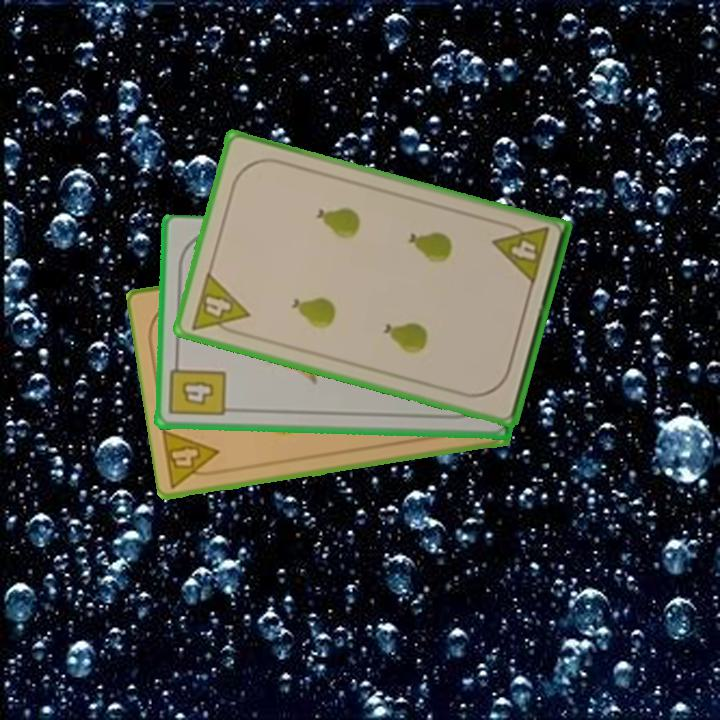4b: (166, 356, 229, 419)
4p: (187, 268, 252, 340), (489, 218, 552, 288), (159, 426, 227, 490)
